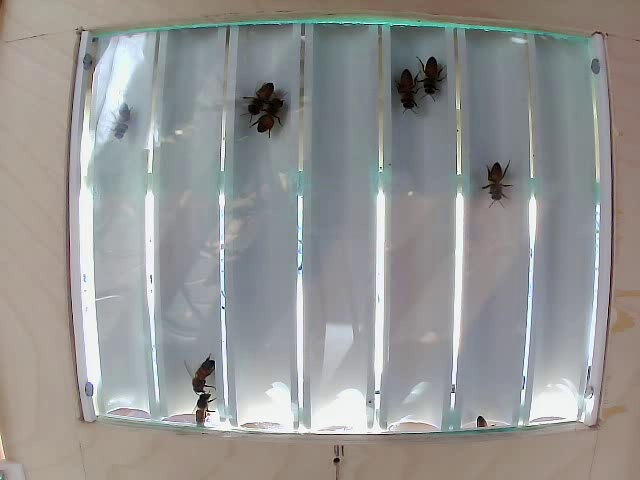bee: (419, 57, 452, 112), (392, 71, 425, 120), (486, 164, 517, 216), (255, 97, 285, 133), (245, 78, 276, 108)
